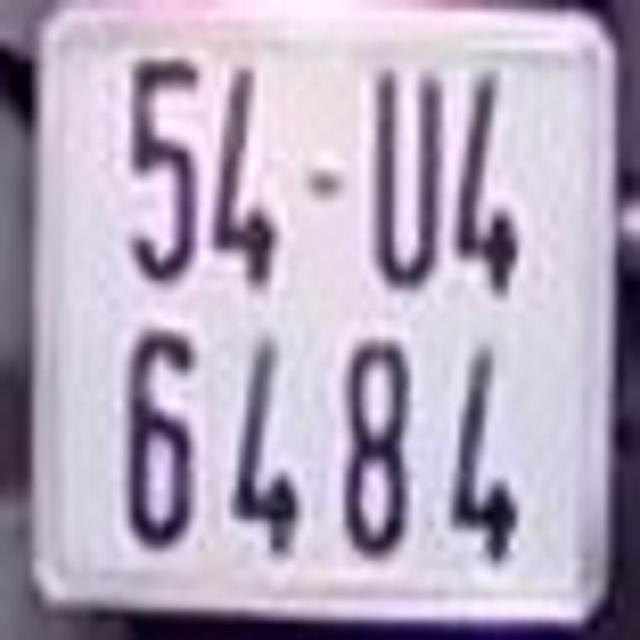4: (232, 337, 306, 561), (458, 68, 525, 300), (453, 347, 522, 560), (216, 66, 283, 285)
5: (126, 57, 197, 273)
6: (120, 320, 194, 547)
8: (341, 338, 411, 556)
U: (373, 62, 446, 296)
